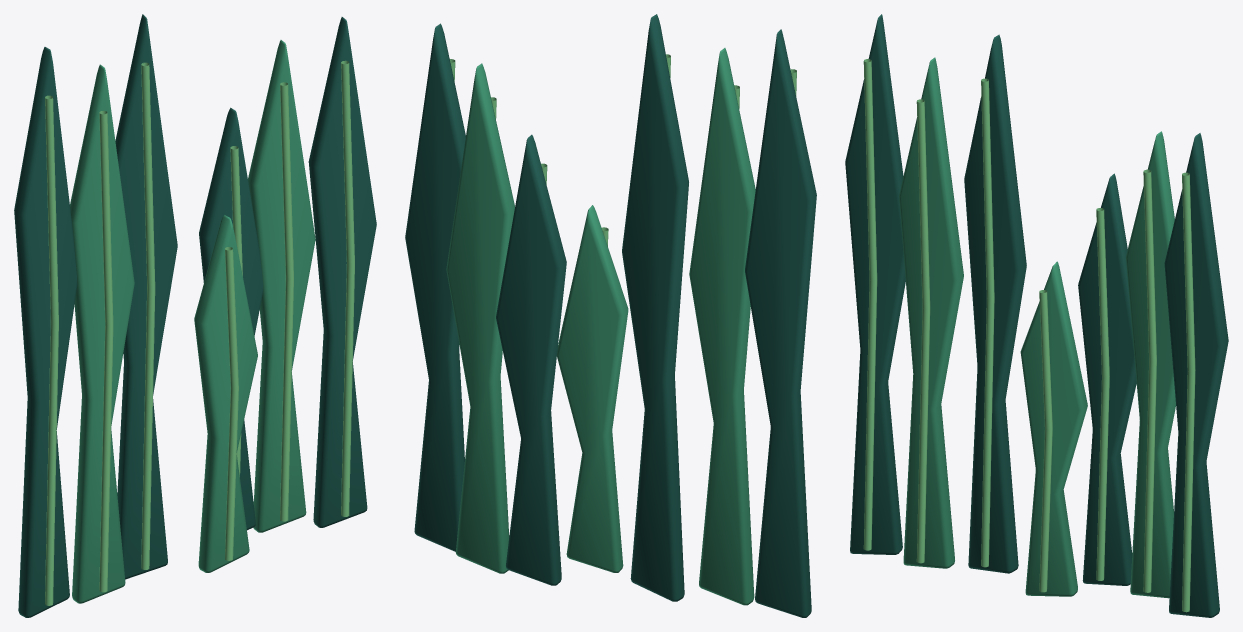
File: r004_reef_kelp_cards_kelp_03.glb
The picture shows the model from 3 angles, left to right: view 1: azimuth 30°, elevation 25°; view 2: azimuth 150°, elevation 25°; view 3: azimuth 330°, elevation 25°; orthographic projection. The views are drawn at different scales.
Visible parts, largest first — view 1: r004_reef_kelp_cards_kelp_03.001; view 2: r004_reef_kelp_cards_kelp_03.001; view 3: r004_reef_kelp_cards_kelp_03.001.
Part boxes in pixels (<box>): r004_reef_kelp_cards_kelp_03.001: <box>14,14,376,617</box>; r004_reef_kelp_cards_kelp_03.001: <box>405,14,816,617</box>; r004_reef_kelp_cards_kelp_03.001: <box>845,14,1228,617</box>.
Bounding box in the file's own units: 2.55 × 3.64 × 0.5025.
